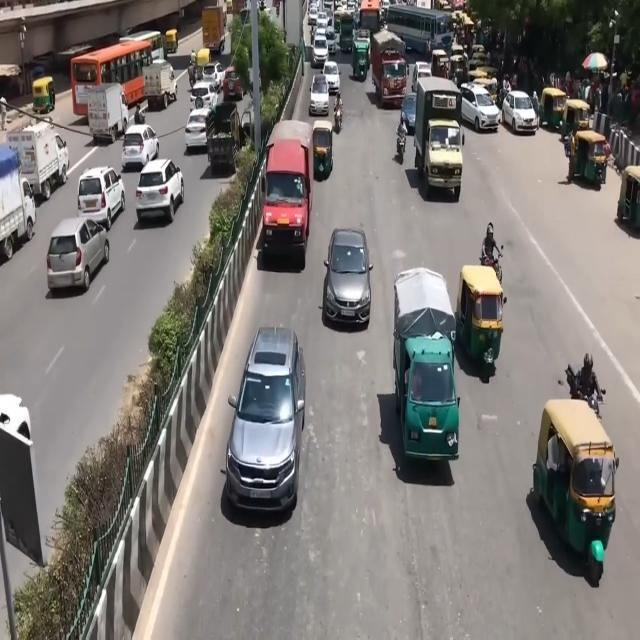auto: (532, 396, 618, 571), (455, 264, 505, 372), (569, 126, 609, 187), (617, 164, 640, 230), (561, 98, 591, 142), (540, 86, 568, 131), (312, 119, 333, 178), (32, 75, 55, 115), (351, 31, 371, 77), (472, 73, 498, 105), (164, 28, 178, 55)
bike-auto: (572, 353, 604, 408), (482, 223, 503, 280), (396, 123, 407, 161), (333, 94, 343, 132), (532, 90, 540, 127), (188, 56, 196, 88), (134, 104, 144, 124)
